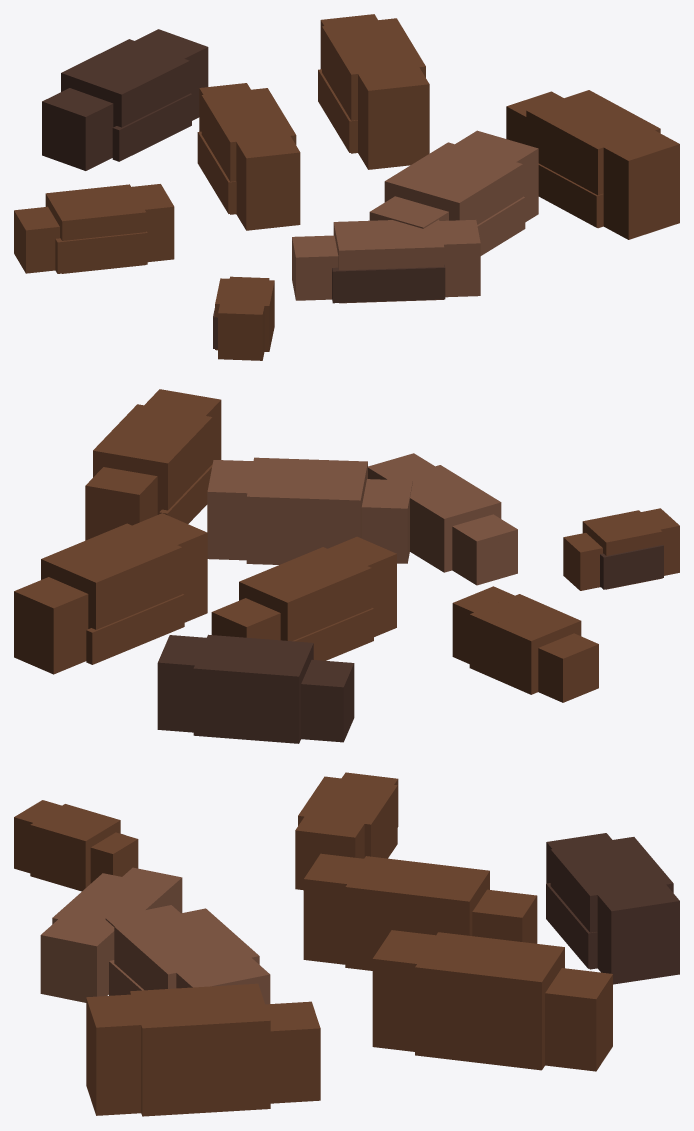
Rendered from CMU3DDecorFloorBrickrubbleNorth.glb.
The picture shows the model from 3 angles, top to bottom: view 1: azimuth 30°, elevation 25°; view 2: azimuth 150°, elevation 25°; view 3: azimuth 270°, elevation 25°; orthographic projection. The views are drawn at different scales.
Parts seen in each view (by area): view 1: brick 7 fractured section 2, brick 5 fractured section 2, brick 7 fractured section 3, brick 1 fractured section 2, brick 4 fractured section 3, brick 3 fractured section 3, brick 4 fractured section 2, brick 6 fractured section 2, brick 1 fractured section 1, brick 3 fractured section 2, brick 2 fractured section 2, brick 6 lower fracture face (+16 smaller); view 2: brick 1 fractured section 2, brick 5 fractured section 2, brick 4 fractured section 2, brick 3 fractured section 2, brick 7 fractured section 2, brick 2 fractured section 2, brick 4 fractured section 1, brick 6 fractured section 2, brick 1 fractured section 1, brick 7 fractured section 1, brick 5 fractured section 3, brick 6 fractured section 1 (+16 smaller); view 3: brick 4 fractured section 2, brick 7 fractured section 2, brick 3 fractured section 2, brick 1 fractured section 3, brick 5 fractured section 2, brick 7 fractured section 3, brick 4 fractured section 1, brick 1 fractured section 2, brick 6 fractured section 3, brick 4 fractured section 3, brick 8 fractured section 2, brick 7 fractured section 1 (+13 smaller).
Boxes of the visible parts, box(x1,y1,x2,y2) form: brick 7 fractured section 2: box(526, 90, 660, 228); brick 5 fractured section 2: box(384, 142, 522, 224); brick 7 fractured section 3: box(603, 130, 679, 239); brick 1 fractured section 2: box(61, 39, 189, 127); brick 4 fractured section 3: box(358, 67, 429, 169); brick 3 fractured section 3: box(236, 136, 300, 230); brick 4 fractured section 2: box(322, 18, 425, 153); brick 6 fractured section 2: box(333, 219, 444, 303); brick 1 fractured section 1: box(42, 88, 113, 170); brick 3 fractured section 2: box(201, 88, 296, 214); brick 2 fractured section 2: box(45, 184, 146, 273); brick 6 lower fracture face: box(332, 264, 445, 303); brick 1 fractured section 2: box(193, 634, 313, 743); brick 5 fractured section 2: box(246, 457, 367, 564); brick 4 fractured section 2: box(41, 523, 182, 629); brick 3 fractured section 2: box(239, 547, 371, 641); brick 7 fractured section 2: box(93, 404, 212, 514); brick 2 fractured section 2: box(469, 594, 581, 694); brick 4 fractured section 1: box(14, 577, 88, 674); brick 6 fractured section 2: box(390, 465, 501, 572); brick 1 fractured section 1: box(301, 659, 354, 742); brick 7 fractured section 1: box(85, 467, 157, 540); brick 5 fractured section 3: box(207, 460, 253, 560); brick 6 fractured section 1: box(452, 514, 517, 585); brick 4 fractured section 2: box(415, 932, 564, 1070); brick 7 fractured section 2: box(130, 983, 270, 1116); brick 3 fractured section 2: box(345, 856, 489, 970); brick 1 fractured section 3: box(597, 884, 679, 984); brick 5 fractured section 2: box(114, 908, 259, 990); brick 7 fractured section 3: box(86, 994, 141, 1115); brick 4 fractured section 1: box(545, 968, 612, 1071); brick 1 fractured section 2: box(550, 837, 673, 969); brick 6 fractured section 3: box(40, 919, 114, 1002); brick 4 fractured section 3: box(372, 930, 435, 1051); brick 8 fractured section 2: box(30, 804, 120, 891); brick 7 fractured section 1: box(265, 1001, 320, 1103).
Bounding box in the file's own units: 0.8632 × 0.12 × 0.821.
